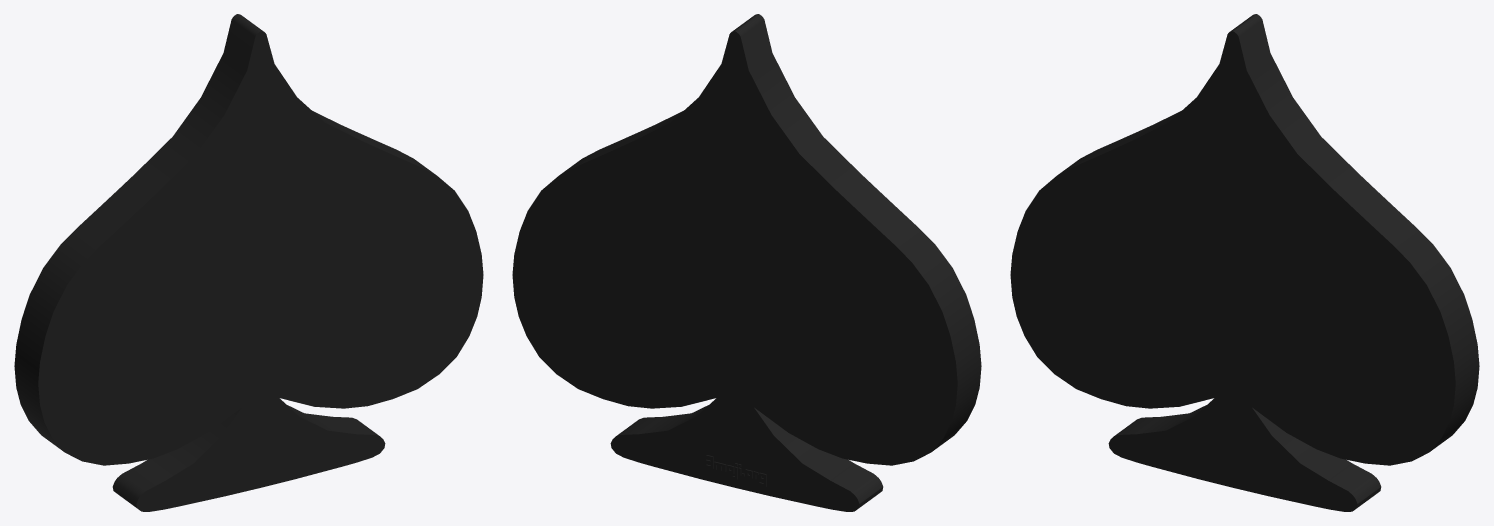
Rendered from spade_suit.fbx.
3 views of the same model, side by side, from view 1: azimuth 30°, elevation 25°; view 2: azimuth 150°, elevation 25°; view 3: azimuth 330°, elevation 25° (orthographic).
Parts seen in each view (by area): view 1: Plane.313; view 2: Plane.313; view 3: Plane.313.
Part boxes in pixels (bbox=[...]): Plane.313: bbox=[14, 14, 483, 511]; Plane.313: bbox=[512, 14, 981, 511]; Plane.313: bbox=[1010, 14, 1479, 511].
Size of the model in its own units: 216 by 212 by 20.57.
1 material, 1 textured.
